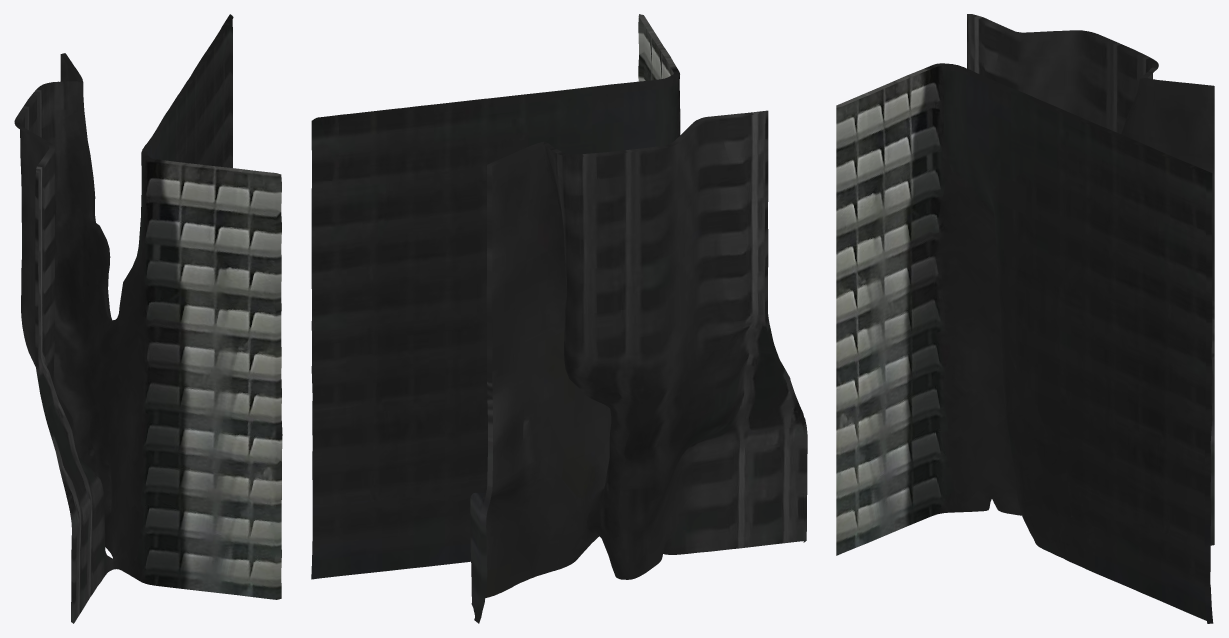
Rendered from z20-167777-405237-h1-yup-uvflip-v3-world.glb.
3 renders of one model, left to right at view 1: azimuth 30°, elevation 25°; view 2: azimuth 150°, elevation 25°; view 3: azimuth 270°, elevation 25°, orthographic. The views are drawn at different scales.
Size of the model in its own units: 30.16 by 40.04 by 30.32.
Materials: 1 (1 with a texture image).
